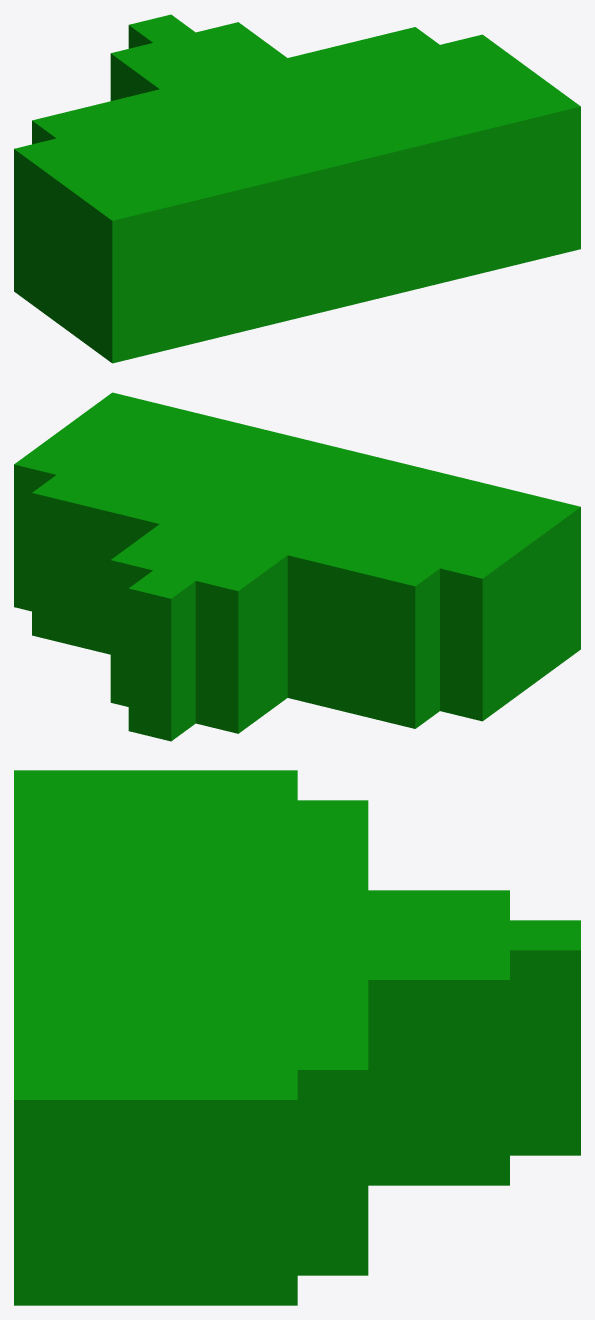
File: nave.obj
The picture shows the model from 3 angles, top to bottom: view 1: azimuth 30°, elevation 25°; view 2: azimuth 150°, elevation 25°; view 3: azimuth 270°, elevation 25°; orthographic projection. The views are drawn at different scales.
Parts seen in each view (by area): view 1: Plane; view 2: Plane; view 3: Plane.
Boxes of the visible parts, bbox=[...] form: Plane: bbox=[14, 14, 580, 363]; Plane: bbox=[14, 392, 580, 741]; Plane: bbox=[14, 770, 580, 1305].
Size of the model in its own units: 2 by 0.5818 by 1.45.
